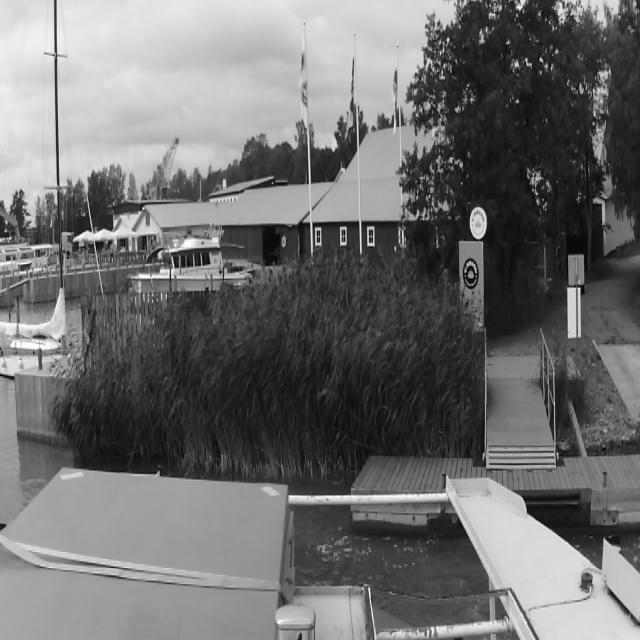ship: (10, 0, 70, 382), (127, 221, 249, 297)
